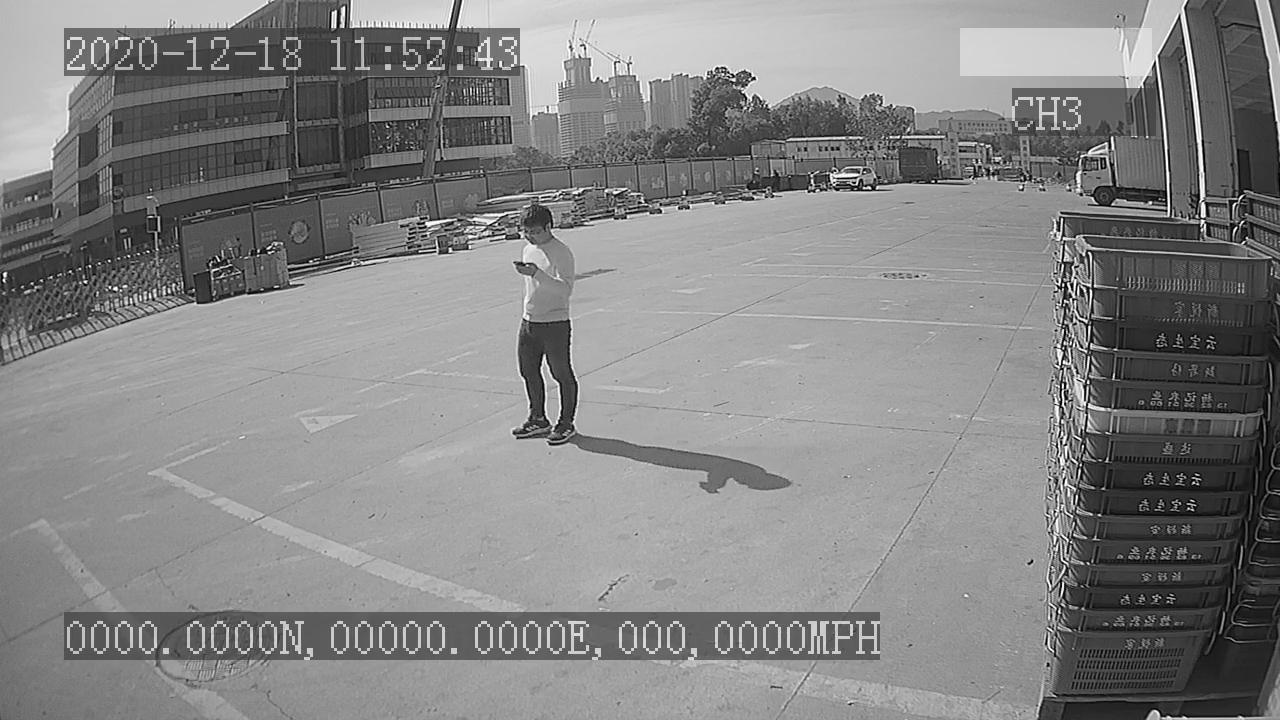person: (499, 197, 588, 456)
